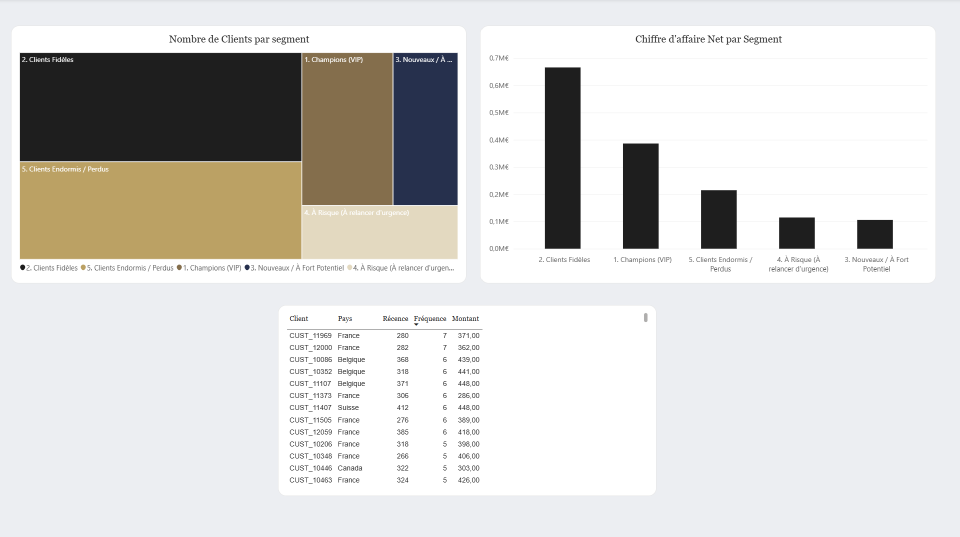

What the dashboard file says about the page in this screenshot:
{"tool":"powerbi","page":{"name":"Segmentation RFM","canvas":[1920,1080],"ordinal":1},"visuals":[{"type":"treemap","title":"Nombre de Clients par segment","fields":{"Group":["customers.segment"],"Values":["CountNonNull(customers.customer_id)"]},"box":[28,54,906,512],"z":0},{"type":"columnChart","title":"Chiffre d''affaire Net par Segment","fields":{"Category":["customers.segment"],"Y":["sales.CA Net"]},"box":[960,54,906,512],"z":1},{"type":"tableEx","fields":{"Values":["customers.customer_id","customers.country","customers.recency","customers.frequency","customers.monetary"]},"box":[558,608,752,380],"z":2}]}

Visuals, with their boxes in screenshot pixels (x1, y1, x2, y2), scaled from the page's 1920x1080 canvas onto the 960x537 screenshot:
"Nombre de Clients par segment" treemap: 14, 27, 467, 281
"Chiffre d''affaire Net par Segment" columnChart: 480, 27, 933, 281
tableEx - customers.customer_id x customers.country: 279, 302, 655, 491
